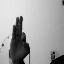f: (9, 15, 31, 59)
